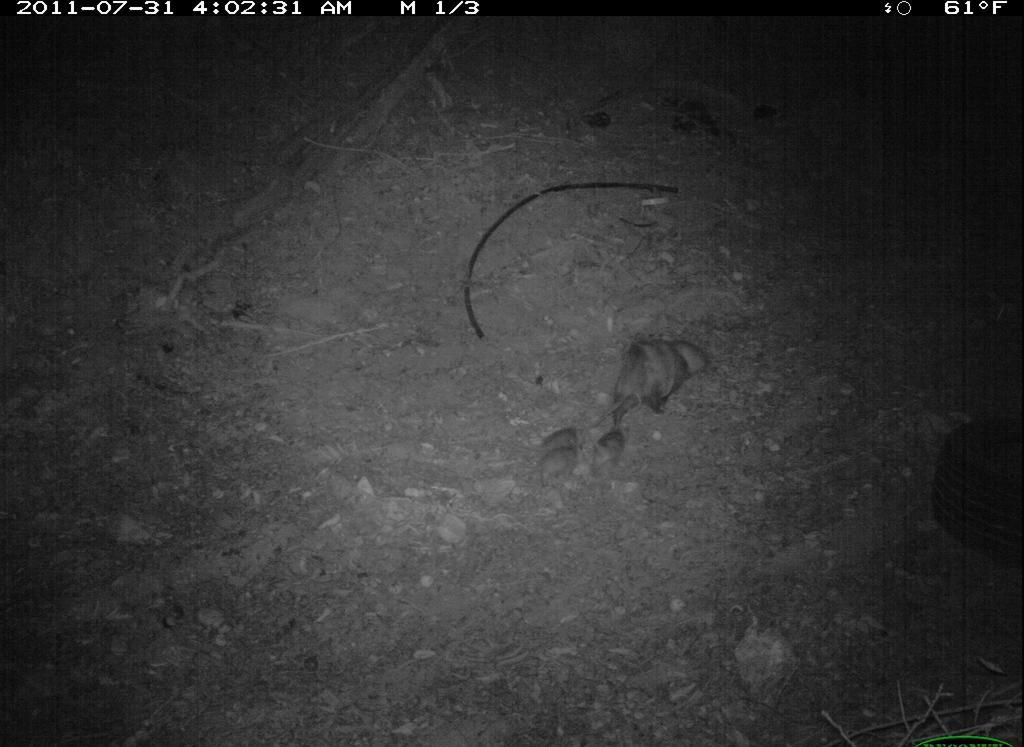opossum: (511, 426, 587, 456)
